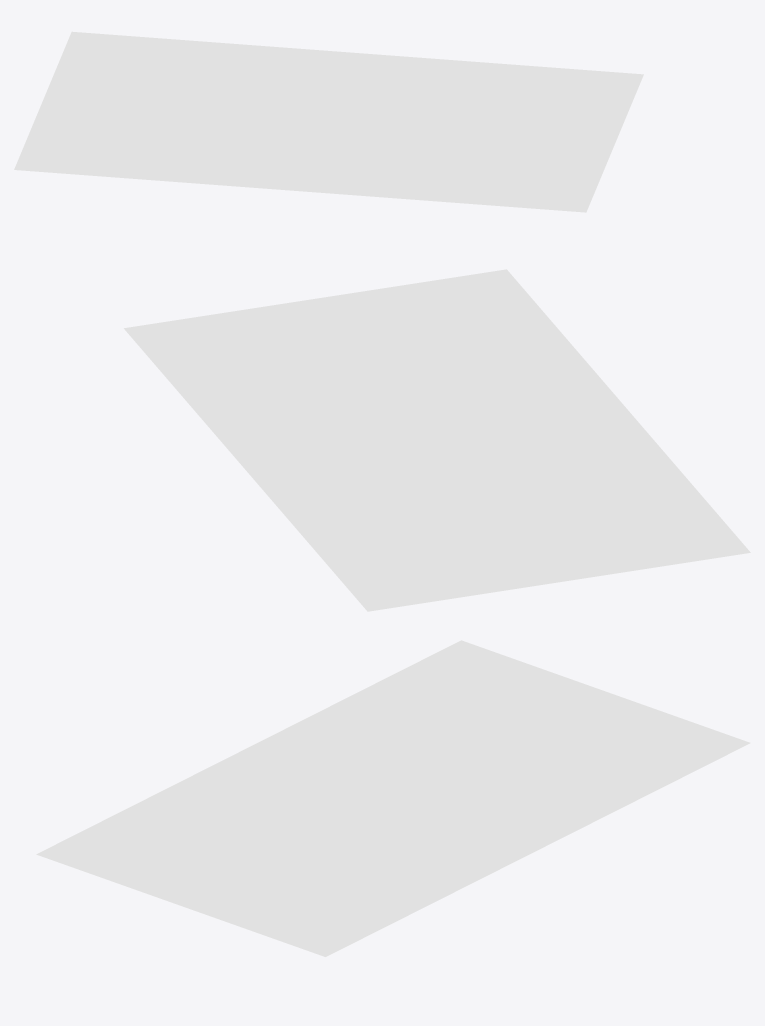
3 renders of one model, top to bottom at view 1: azimuth 30°, elevation 25°; view 2: azimuth 150°, elevation 25°; view 3: azimuth 270°, elevation 25°, orthographic. The views are drawn at different scales.
Parts seen in each view (by area): view 1: Joint_0_Object_0; view 2: Joint_0_Object_0; view 3: Joint_0_Object_0.
Part boxes in pixels (x1,y1,x2,y2): Joint_0_Object_0: (14, 31, 643, 212); Joint_0_Object_0: (124, 269, 750, 611); Joint_0_Object_0: (36, 640, 750, 956).
Size of the model in its own units: 615 by 0 by 516.
